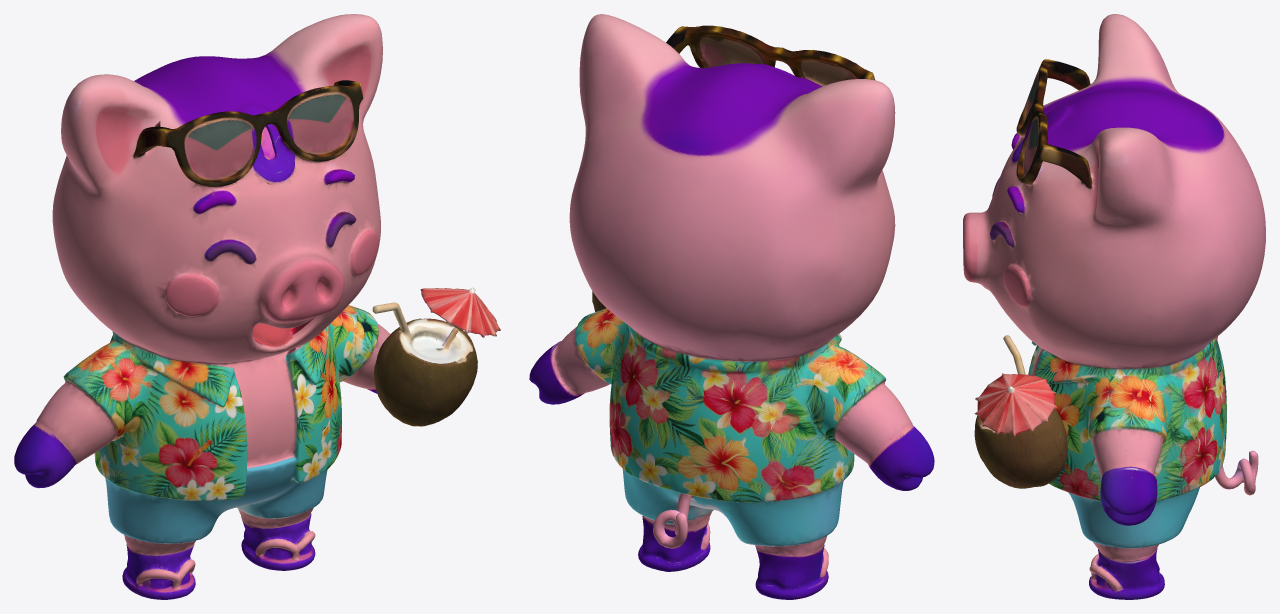
The model's file is quita-praia.glb.
The picture shows the model from 3 angles, left to right: view 1: azimuth 30°, elevation 25°; view 2: azimuth 150°, elevation 25°; view 3: azimuth 270°, elevation 25°; orthographic projection. The views are drawn at different scales.
Visible parts, largest first — view 1: Mesh_0; view 2: Mesh_0; view 3: Mesh_0.
Boxes of the visible parts, bbox=[...] form: Mesh_0: bbox=[14, 14, 500, 599]; Mesh_0: bbox=[529, 14, 934, 599]; Mesh_0: bbox=[963, 14, 1265, 599].
Bounding box in the file's own units: 1.59 × 1.91 × 1.08.
Materials: 1 (1 with a texture image).
